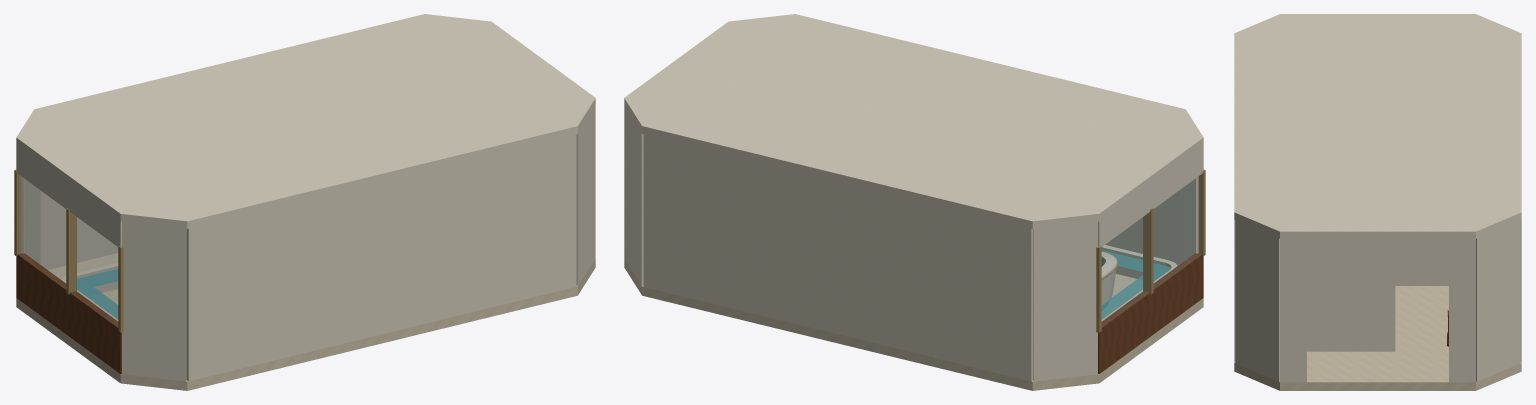
The model's file is D04_STARBOARD_AFT_HOME_969_r001.glb.
3 views of the same model, side by side, from view 1: azimuth 30°, elevation 25°; view 2: azimuth 150°, elevation 25°; view 3: azimuth 270°, elevation 25° (orthographic). The views are drawn at different scales.
Parts seen in each view (by area): view 1: SA969_D04H964_Roof, SA969_D04H964_Shell_7, SA969_D04H964_Shell_6, SA969_D04H964_Floor, SA969_D04H964_GardenGlass, SA969_D04H964_GardenDado, SA969_D04H964_Shell_0, SA969_D04H964_GardenHead, SA969_D04H964_Shell_3, SA969_D04H964_Shell_4, SA969_D04H964_Water_0, SA969_D04H964_WindowMullion_1 (+3 smaller); view 2: SA969_D04H964_Roof, SA969_D04H964_Shell_3, SA969_D04H964_Shell_4, SA969_D04H964_GardenGlass, SA969_D04H964_Floor, SA969_D04H964_GardenDado, SA969_D04H964_Shell_2, SA969_D04H964_GardenHead, SA969_D04H964_Shell_7, SA969_D04H964_Shell_6, SA969_D04H964_Water_0, SA969_D04H964_WindowMullion_1 (+4 smaller); view 3: SA969_D04H964_Roof, SA969_D04H964_Floor, SA969_D04H964_EntryHeader, SA969_D04H964_Shell_0, SA969_D04H964_Shell_2, SA969_D04H964_BathDogleg, SA969_D04H964_EntryWall_0, SA969_D04H964_EntryWall_1, SA969_D04H964_Shell_3, SA969_D04H964_Shell_7.
Boxes of the visible parts, <box> form: SA969_D04H964_Roof: <box>16,14,595,228</box>; SA969_D04H964_Shell_7: <box>186,134,576,381</box>; SA969_D04H964_Shell_6: <box>122,221,186,381</box>; SA969_D04H964_Floor: <box>16,253,595,390</box>; SA969_D04H964_GardenGlass: <box>24,179,117,324</box>; SA969_D04H964_GardenDado: <box>16,253,121,373</box>; SA969_D04H964_Shell_0: <box>576,107,595,285</box>; SA969_D04H964_GardenHead: <box>16,145,121,246</box>; SA969_D04H964_Shell_3: <box>40,191,118,269</box>; SA969_D04H964_Shell_4: <box>21,176,40,264</box>; SA969_D04H964_Water_0: <box>77,269,118,319</box>; SA969_D04H964_WindowMullion_1: <box>66,208,76,294</box>; SA969_D04H964_Roof: <box>624,14,1203,228</box>; SA969_D04H964_Shell_3: <box>643,134,1033,381</box>; SA969_D04H964_Shell_4: <box>1033,221,1097,381</box>; SA969_D04H964_GardenGlass: <box>1102,179,1200,326</box>; SA969_D04H964_Floor: <box>624,258,1203,390</box>; SA969_D04H964_GardenDado: <box>1098,253,1203,373</box>; SA969_D04H964_Shell_2: <box>624,107,643,285</box>; SA969_D04H964_GardenHead: <box>1098,145,1203,246</box>; SA969_D04H964_Shell_7: <box>1105,191,1179,265</box>; SA969_D04H964_Shell_6: <box>1179,176,1198,264</box>; SA969_D04H964_Water_0: <box>1101,250,1170,319</box>; SA969_D04H964_WindowMullion_1: <box>1143,208,1153,294</box>; SA969_D04H964_Roof: <box>1234,14,1521,238</box>; SA969_D04H964_Floor: <box>1234,286,1521,390</box>; SA969_D04H964_EntryHeader: <box>1307,239,1448,285</box>; SA969_D04H964_Shell_0: <box>1235,220,1279,381</box>; SA969_D04H964_Shell_2: <box>1476,220,1520,381</box>; SA969_D04H964_BathDogleg: <box>1307,286,1395,351</box>; SA969_D04H964_EntryWall_0: <box>1280,239,1306,382</box>; SA969_D04H964_EntryWall_1: <box>1449,239,1475,382</box>; SA969_D04H964_Shell_3: <box>1520,219,1521,362</box>; SA969_D04H964_Shell_7: <box>1234,219,1235,362</box>.
Size of the model in its own units: 12.93 by 4.4 by 7.2.
Materials: 40 (21 with a texture image).
